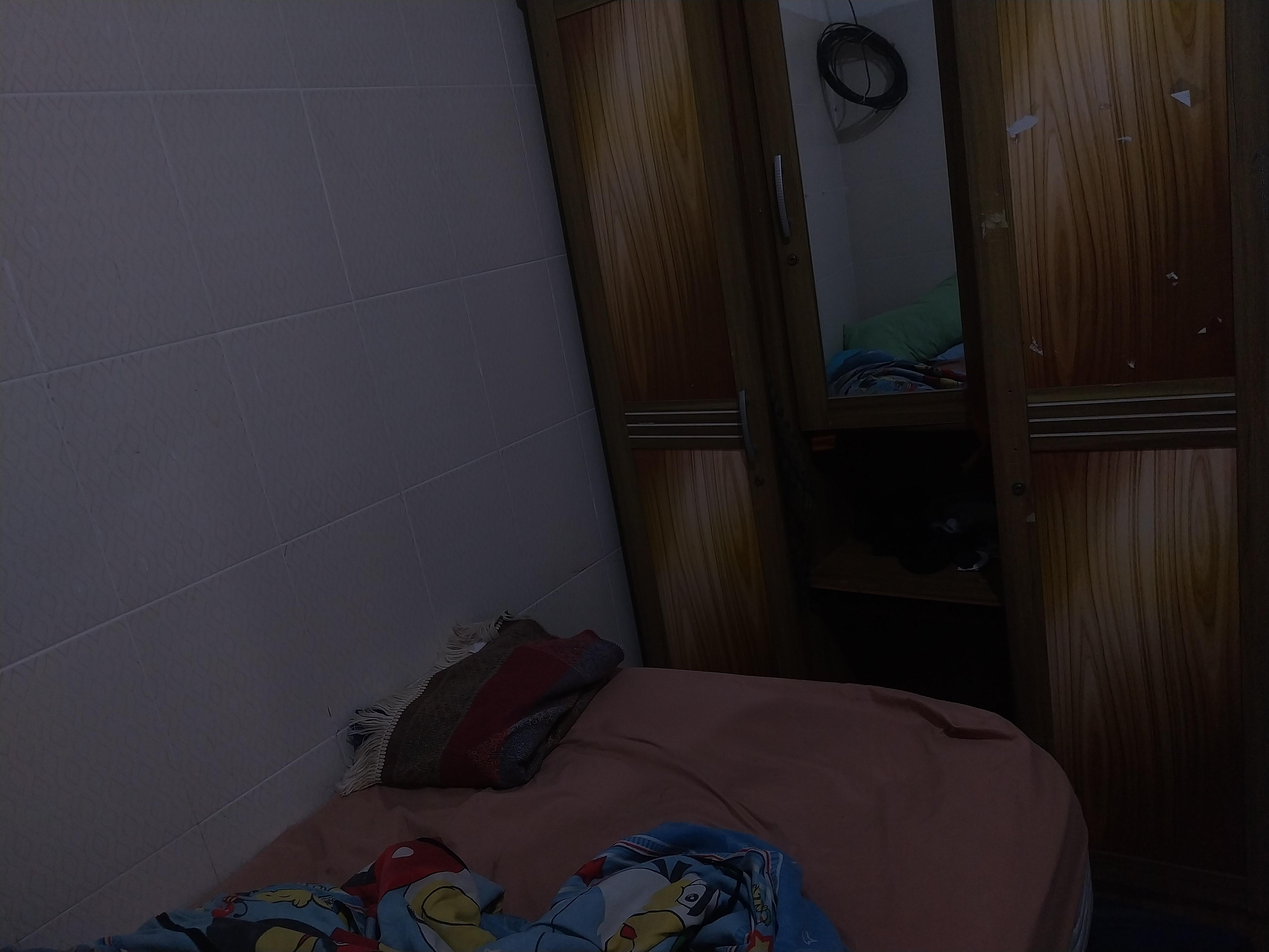bed: (190, 639, 1107, 952)
blanket: (0, 821, 850, 952)
cabinet-merged: (515, 0, 1269, 946)
